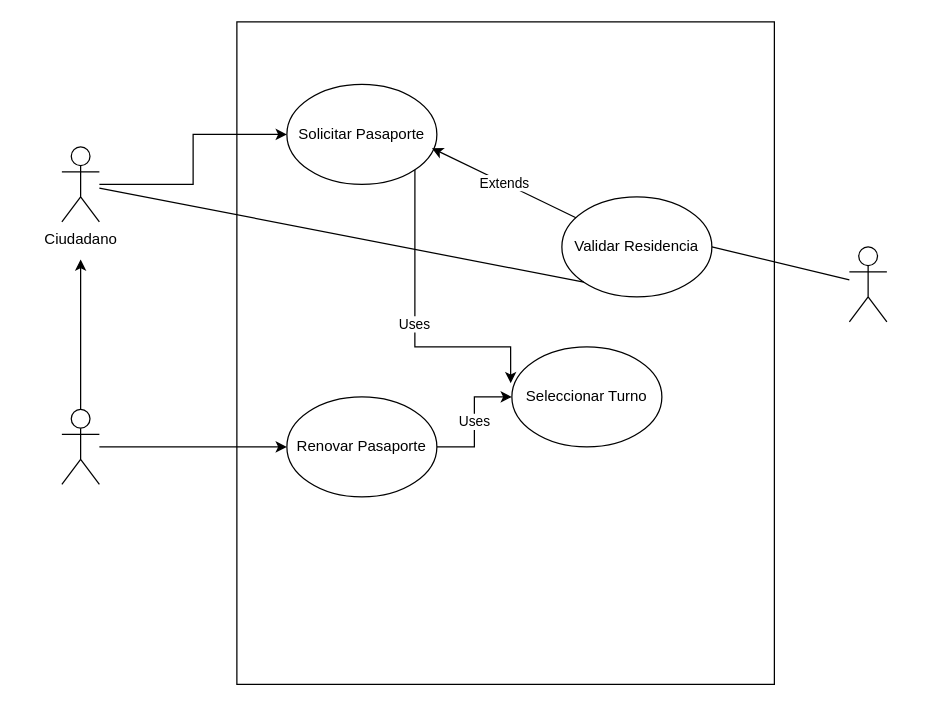
Image size: 945x706. Some labels were removed from this diagram. The box of each missing label's shape, as (x1, y1, x2, y2) in pixels:
Servidor Externo: (848, 246, 887, 322)
Usuario Argentino: (61, 408, 99, 484)
